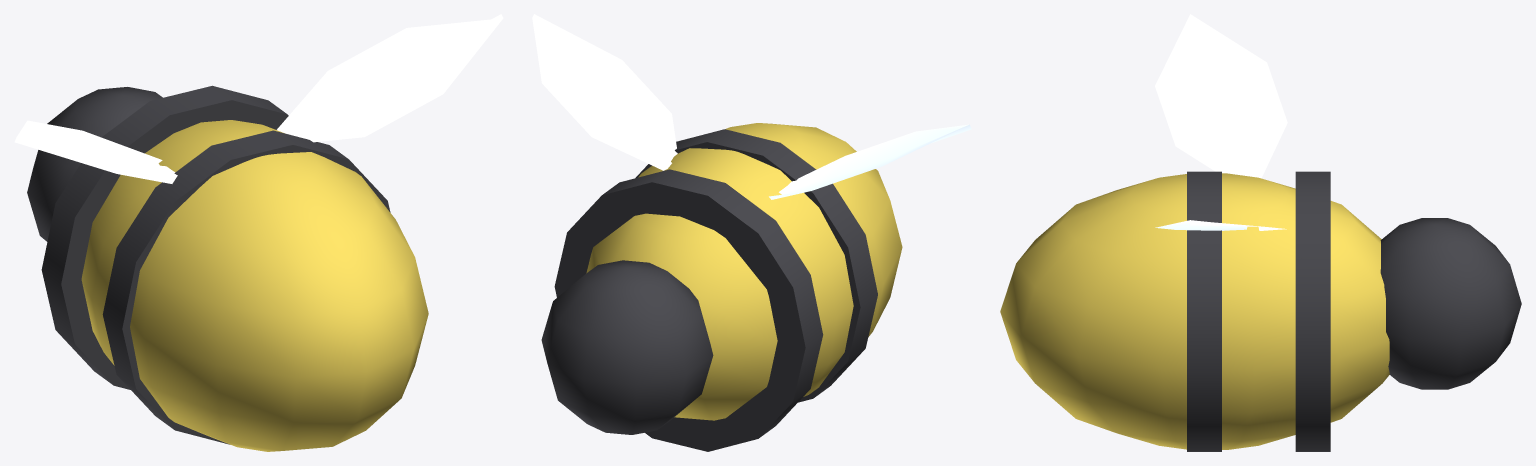
The model's file is biene.glb.
The picture shows the model from 3 angles, left to right: view 1: azimuth 30°, elevation 25°; view 2: azimuth 150°, elevation 25°; view 3: azimuth 270°, elevation 25°; orthographic projection. The views are drawn at different scales.
Visible parts, largest first — view 1: biene_lod0; view 2: biene_lod0; view 3: biene_lod0.
Boxes of the visible parts, x1,y1,x2,y2 form: biene_lod0: [14, 14, 503, 451]; biene_lod0: [532, 14, 971, 451]; biene_lod0: [1000, 14, 1521, 451].
Size of what is drawn, in the model's own units: 1.16 by 0.82 by 1.2.
